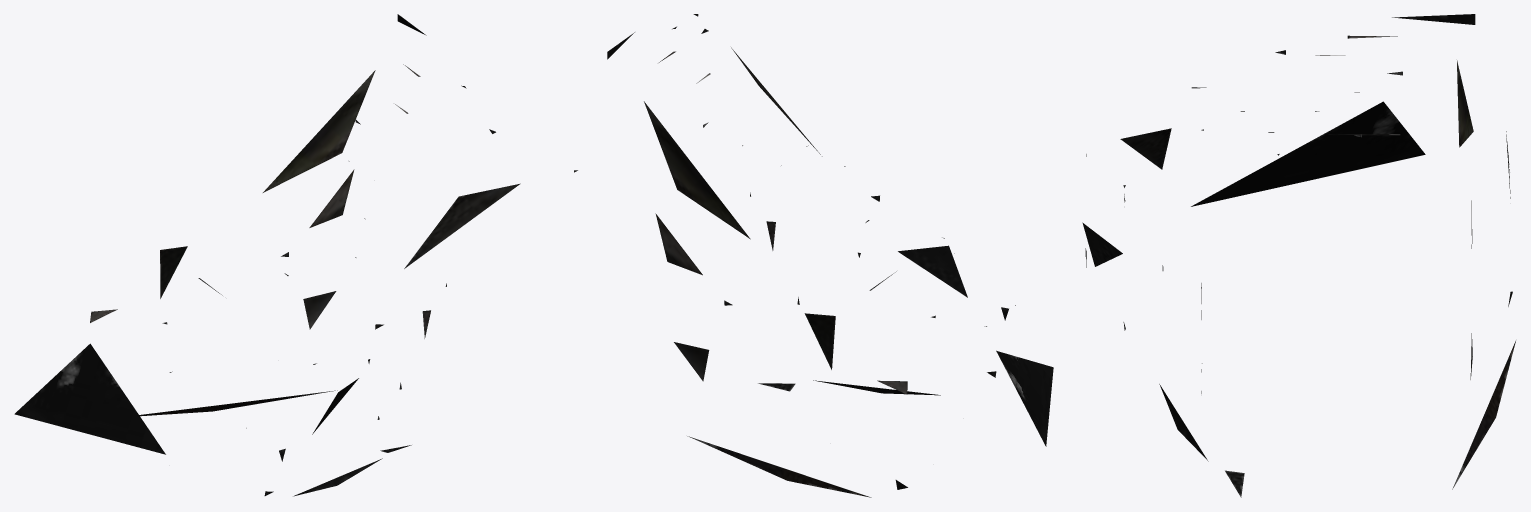
Rendered from stratified_ridge_lod2.glb.
3 views of the same model, side by side, from view 1: azimuth 30°, elevation 25°; view 2: azimuth 150°, elevation 25°; view 3: azimuth 270°, elevation 25° (orthographic). The views are drawn at different scales.
Visible parts, largest first — view 1: stratified_ridge_lod2; view 2: stratified_ridge_lod2; view 3: stratified_ridge_lod2.
Boxes of the visible parts, <box> form: stratified_ridge_lod2: <box>14,14,577,496</box>; stratified_ridge_lod2: <box>607,14,1053,497</box>; stratified_ridge_lod2: <box>1082,14,1515,497</box>.
Bounding box in the file's own units: 0.9076 × 0.692 × 0.5114.
Materials: 1 (1 with a texture image).
